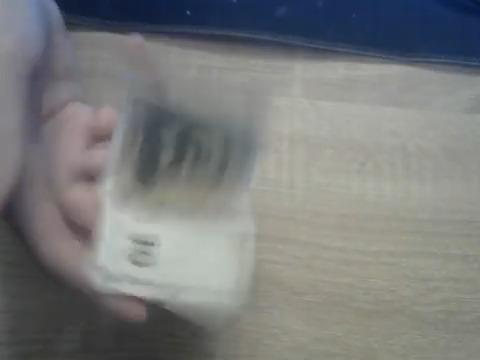10leva: (88, 97, 257, 335)
